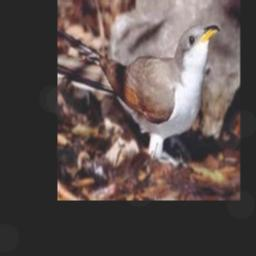Cuckoo: (57, 24, 220, 161)
